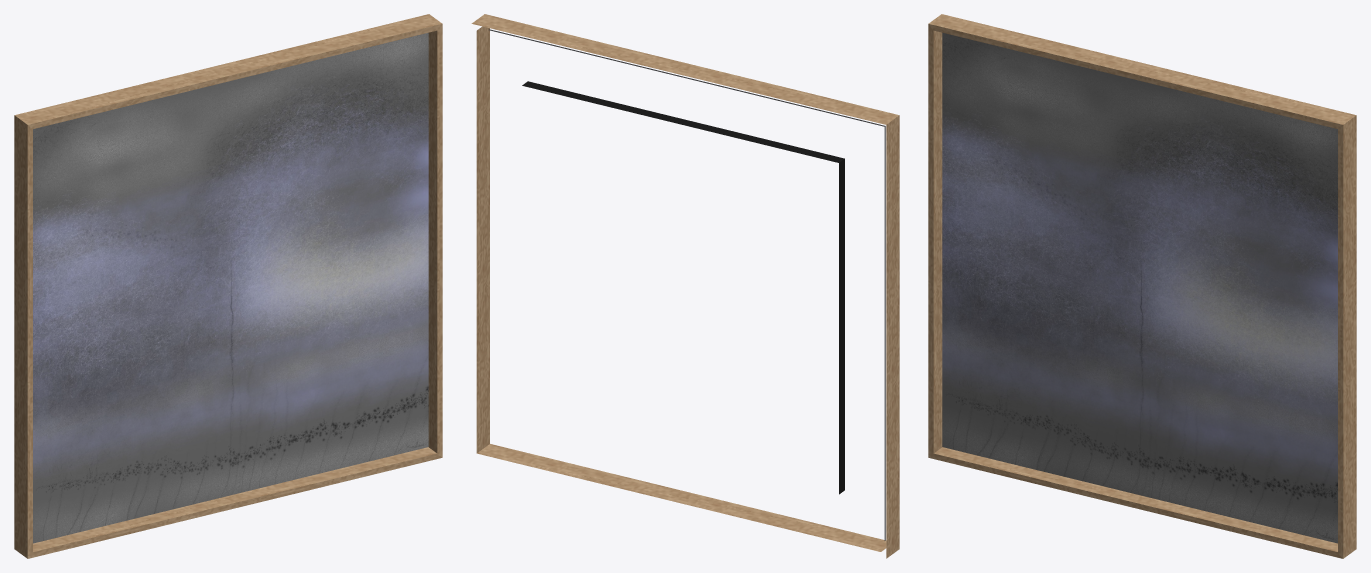
File: va363_moyen_caisse-chene.glb
3 renders of one model, left to right at view 1: azimuth 30°, elevation 25°; view 2: azimuth 150°, elevation 25°; view 3: azimuth 330°, elevation 25°, orthographic.
Parts seen in each view (by area): view 1: va363_moyen_caisse-chene; view 2: va363_moyen_caisse-chene; view 3: va363_moyen_caisse-chene.
Part boxes in pixels (x1,y1,x2,y2): va363_moyen_caisse-chene: (14, 14, 442, 558); va363_moyen_caisse-chene: (471, 14, 899, 558); va363_moyen_caisse-chene: (928, 14, 1356, 558).
Size of the model in its own units: 0.628 by 0.628 by 0.035.
Materials: 4 (2 with a texture image).
